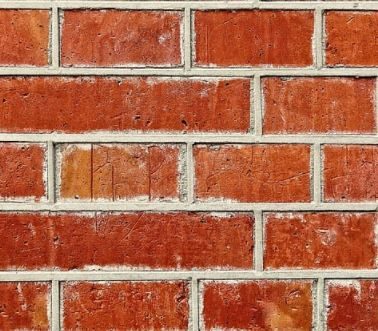brick: (1, 206, 259, 275), (1, 73, 256, 138), (49, 141, 189, 204), (187, 5, 320, 71), (55, 5, 185, 69), (189, 141, 315, 206), (257, 74, 378, 139), (258, 208, 378, 273), (56, 279, 195, 330), (194, 280, 317, 329), (316, 6, 378, 69), (318, 142, 377, 206), (319, 277, 378, 330), (1, 9, 53, 68), (1, 142, 49, 203), (1, 279, 54, 330)
